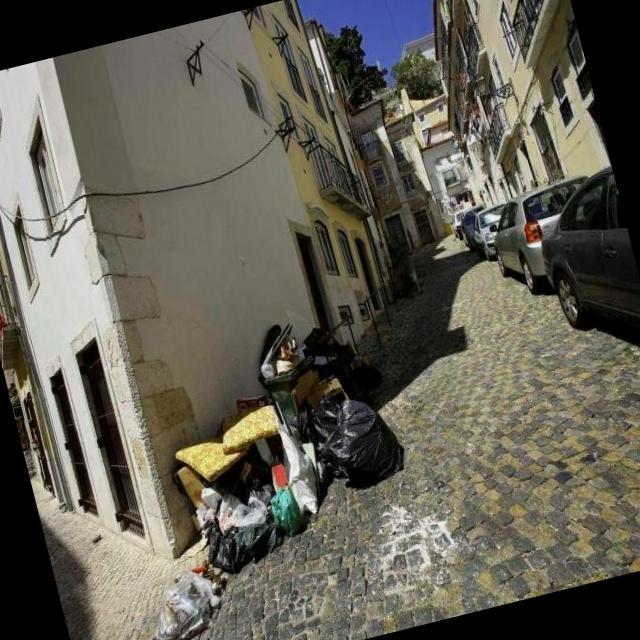high trash: (174, 325, 403, 571)
